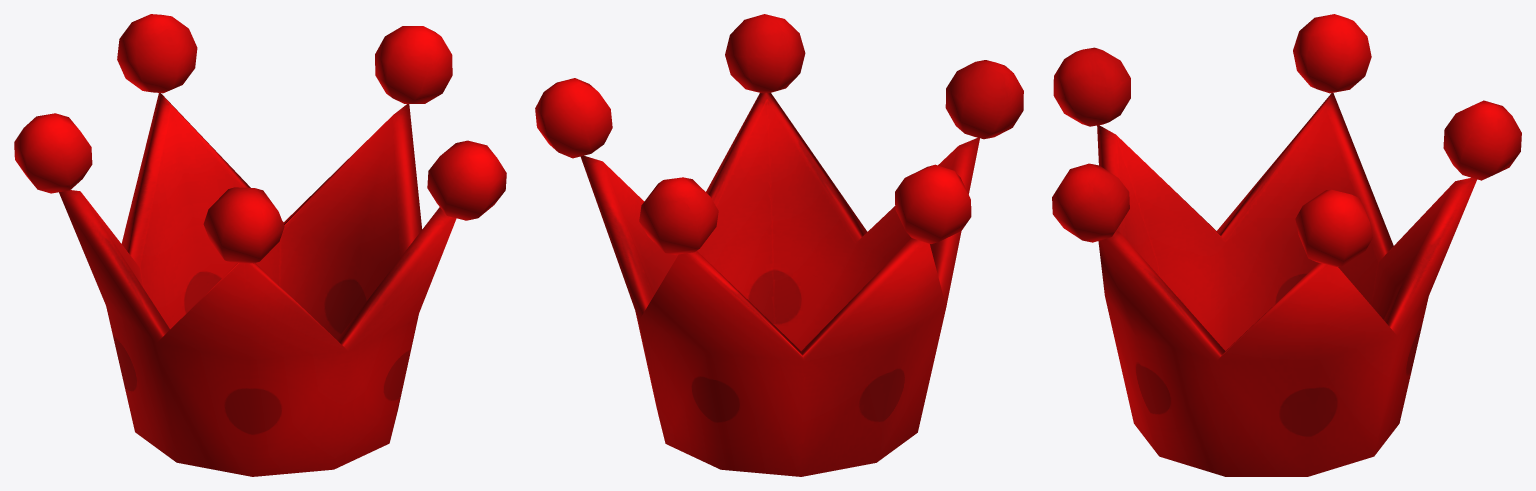
The model's file is SM_Crown.glb.
3 renders of one model, left to right at view 1: azimuth 30°, elevation 25°; view 2: azimuth 150°, elevation 25°; view 3: azimuth 270°, elevation 25°, orthographic.
Visible parts, largest first — view 1: SM_Crown; view 2: SM_Crown; view 3: SM_Crown.
Part boxes in pixels (x1,y1,x2,y2): SM_Crown: (14, 14, 506, 476); SM_Crown: (535, 14, 1023, 476); SM_Crown: (1052, 14, 1521, 476).
Size of the model in its own units: 0.4276 by 0.3085 by 0.4125.
1 material, 1 textured.
